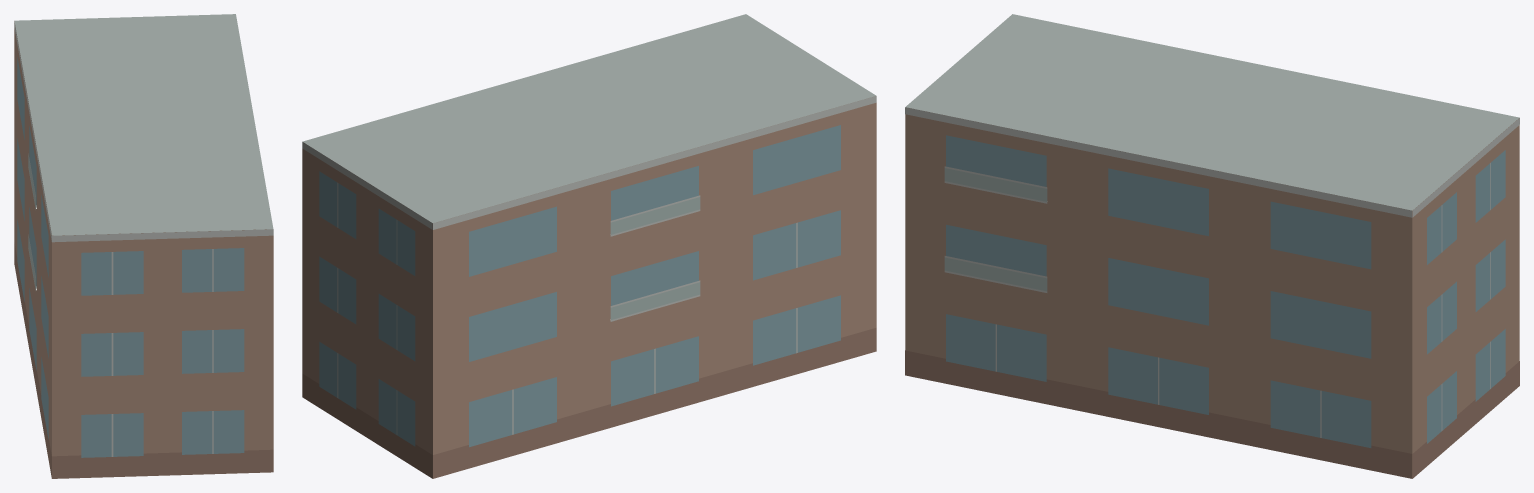
File: survey-upis-32959337.glb
3 views of the same model, side by side, from view 1: azimuth 30°, elevation 25°; view 2: azimuth 150°, elevation 25°; view 3: azimuth 270°, elevation 25° (orthographic). The views are drawn at different scales.
Parts seen in each view (by area): view 1: survey-upis-32959337.tmp; view 2: survey-upis-32959337.tmp; view 3: survey-upis-32959337.tmp.
Part boxes in pixels (left/top/right/bottom): survey-upis-32959337.tmp: left=14, top=14, right=273, bottom=478; survey-upis-32959337.tmp: left=302, top=14, right=876, bottom=478; survey-upis-32959337.tmp: left=905, top=14, right=1519, bottom=478.
Bounding box in the file's own units: 14.39 × 9.15 × 19.01.
